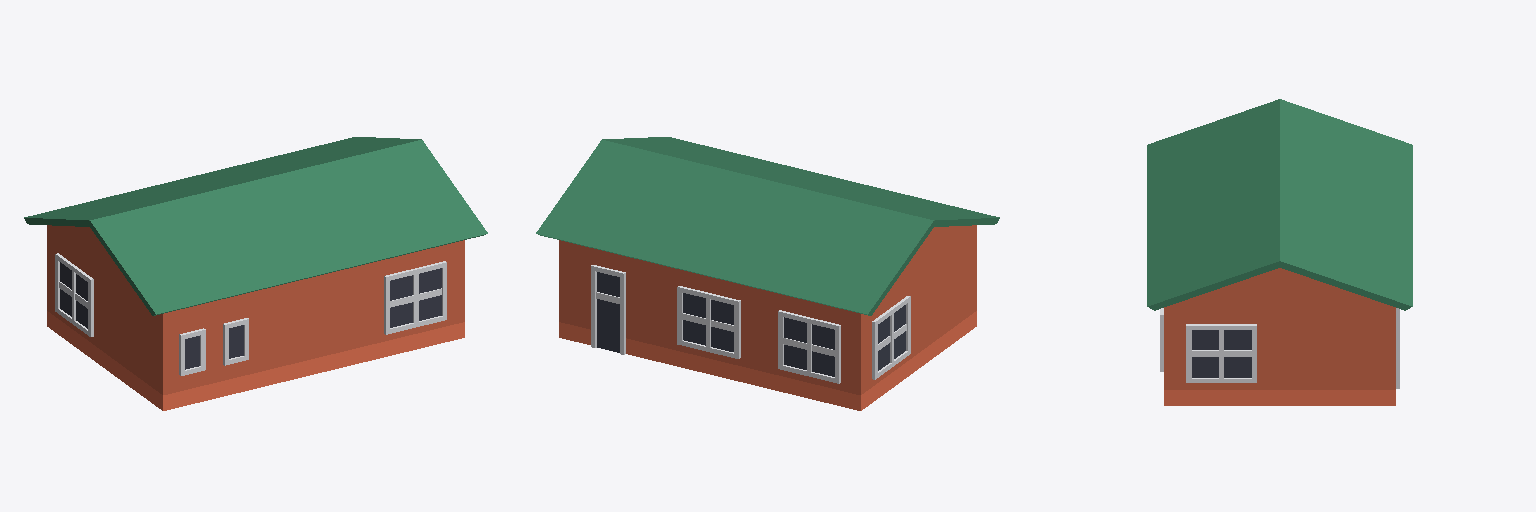
File: House1Full.obj
The picture shows the model from 3 angles: view 1: azimuth 30°, elevation 25°; view 2: azimuth 150°, elevation 25°; view 3: azimuth 270°, elevation 25°; orthographic projection.
Bounding box in the file's own units: 3.3 × 1.44 × 2.28.